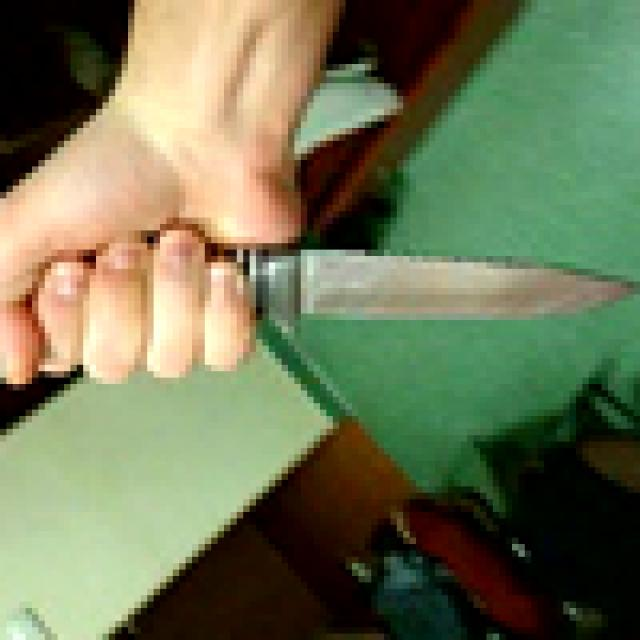weapon: (13, 230, 627, 358)
